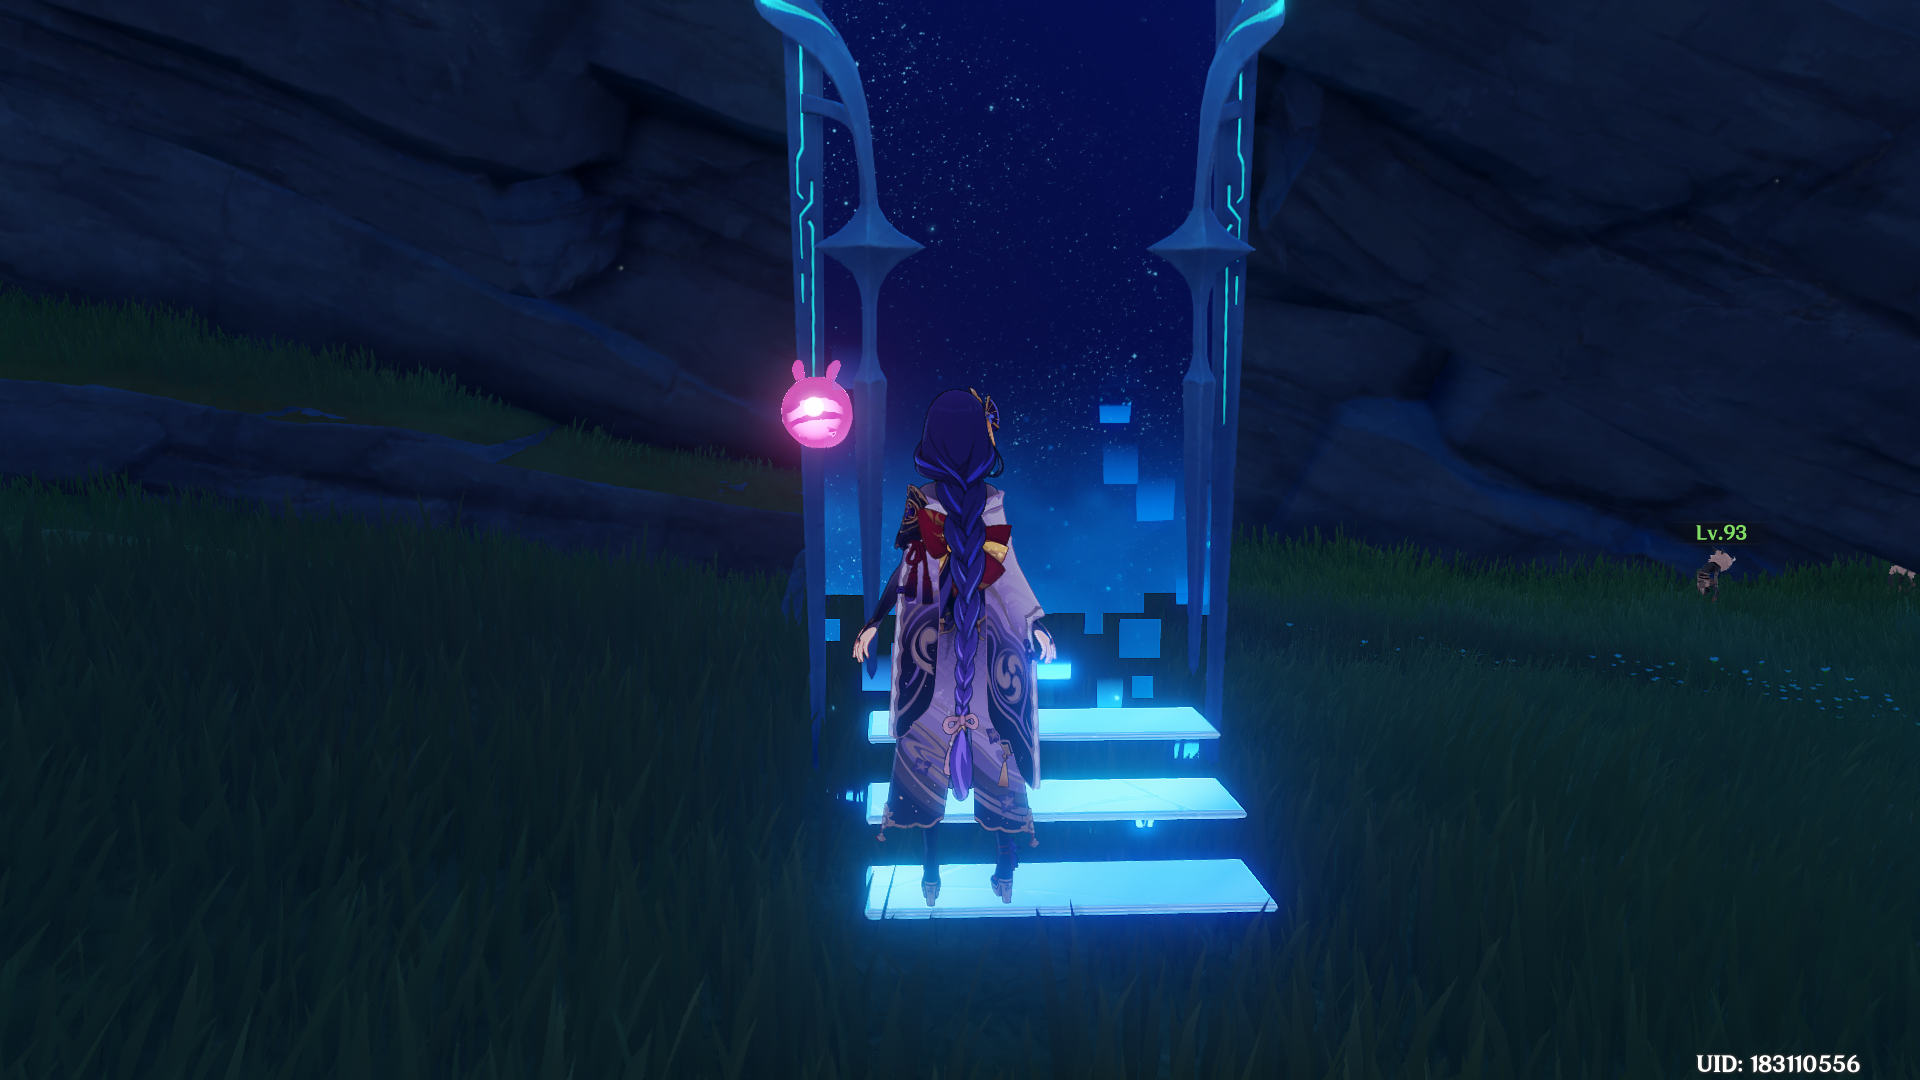character: (816, 360, 1124, 924)
hili: (1687, 545, 1745, 607)
